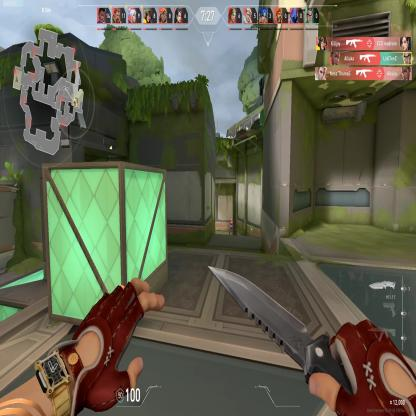enemy: (228, 215, 234, 234)
